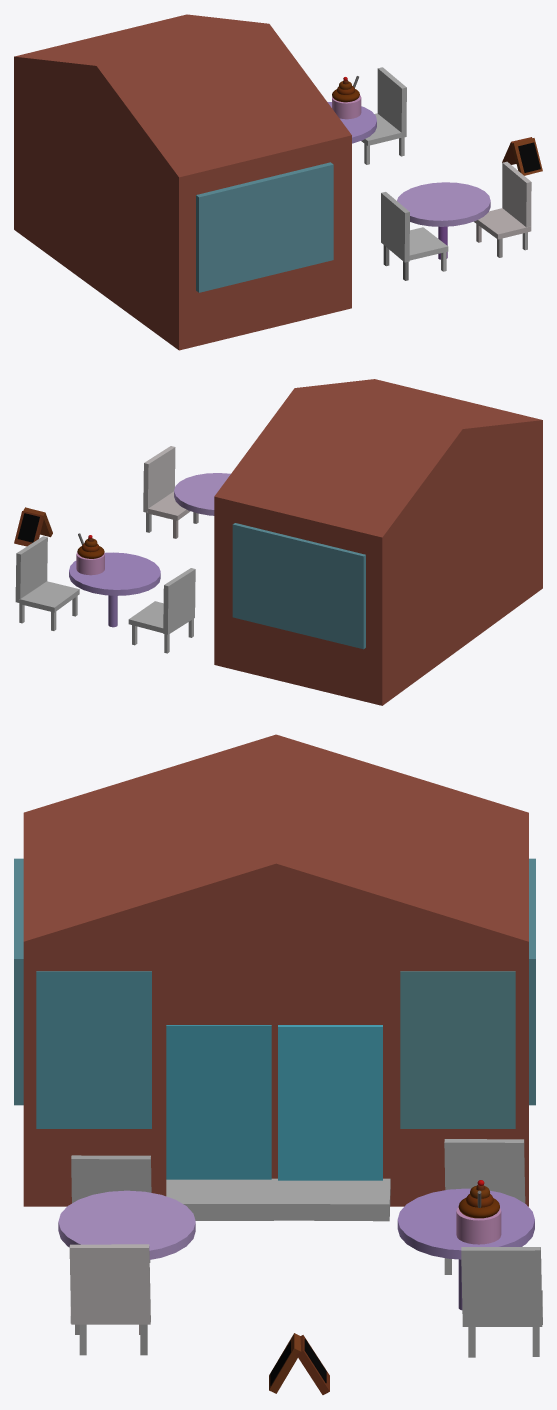
File: ice-cream-shop.fbx
3 views of the same model, one above another, from view 1: azimuth 30°, elevation 25°; view 2: azimuth 150°, elevation 25°; view 3: azimuth 270°, elevation 25° (orthographic). The views are drawn at different scales.
Parts seen in each view (by area): view 1: Box1, Box8, Cylinder3, Box13, Box9, Box11, Box12, Box14, Cylinder, Box10, Cylinder4, Box36 (+1 smaller); view 2: Box1, Box7, Cylinder, Box16, Cylinder3, Box11, Box9, Box10, Box15, Box12, Cylinder4, Box35; view 3: Box1, Box6, Box5, Box2, Box, Cylinder3, Box11, Box9, Cylinder, Box4, Box3, Box16 (+4 smaller).
Boxes of the visible parts, x1=… form: Box1: x1=14, y1=14, x2=351, y2=350; Box8: x1=196, y1=162, x2=333, y2=292; Cylinder3: x1=397, y1=182, x2=490, y2=226; Box13: x1=381, y1=192, x2=409, y2=262; Box9: x1=377, y1=67, x2=406, y2=137; Box11: x1=502, y1=161, x2=531, y2=230; Box12: x1=474, y1=208, x2=530, y2=239; Box14: x1=409, y1=227, x2=448, y2=260; Cylinder: x1=327, y1=102, x2=376, y2=143; Box10: x1=361, y1=113, x2=401, y2=145; Cylinder4: x1=332, y1=95, x2=361, y2=119; Box36: x1=518, y1=142, x2=540, y2=172; Box1: x1=214, y1=379, x2=542, y2=705; Box7: x1=232, y1=523, x2=365, y2=649; Cylinder: x1=69, y1=552, x2=160, y2=595; Box16: x1=163, y1=568, x2=195, y2=634; Cylinder3: x1=174, y1=473, x2=230, y2=515; Box11: x1=143, y1=446, x2=175, y2=512; Box9: x1=15, y1=536, x2=47, y2=602; Box10: x1=19, y1=581, x2=79, y2=612; Box15: x1=128, y1=601, x2=163, y2=632; Box12: x1=146, y1=491, x2=190, y2=520; Cylinder4: x1=76, y1=552, x2=104, y2=575; Box35: x1=17, y1=513, x2=39, y2=542; Box1: x1=23, y1=734, x2=528, y2=1206; Box6: x1=36, y1=971, x2=151, y2=1128; Box5: x1=400, y1=971, x2=515, y2=1128; Box2: x1=166, y1=1025, x2=271, y2=1179; Box: x1=278, y1=1025, x2=382, y2=1180; Cylinder3: x1=58, y1=1190, x2=195, y2=1259; Box11: x1=69, y1=1244, x2=150, y2=1324; Box9: x1=461, y1=1247, x2=542, y2=1326; Cylinder: x1=397, y1=1188, x2=534, y2=1259; Box4: x1=277, y1=1178, x2=390, y2=1221; Box3: x1=166, y1=1178, x2=278, y2=1220; Box16: x1=444, y1=1139, x2=525, y2=1203.
Size of the model in its own units: 8.44 by 4.16 by 5.69.
